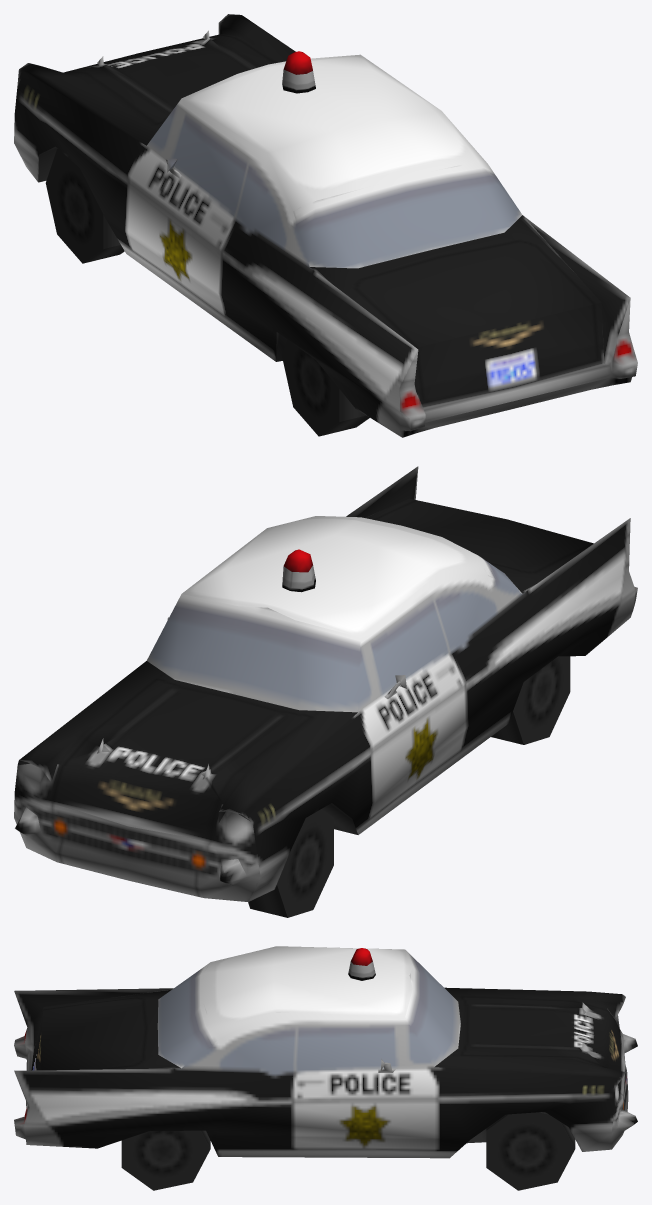
Rendered from fhqDiecast1857BelAirPD.fbx.
3 views of the same model, one above another, from view 1: azimuth 30°, elevation 25°; view 2: azimuth 150°, elevation 25°; view 3: azimuth 270°, elevation 25° (orthographic). The views are drawn at different scales.
Parts seen in each view (by area): view 1: fhqbelairpolice; view 2: fhqbelairpolice; view 3: fhqbelairpolice.
Boxes of the visible parts, x1=… form: fhqbelairpolice: x1=14, y1=14, x2=637, y2=437; fhqbelairpolice: x1=14, y1=466, x2=637, y2=917; fhqbelairpolice: x1=14, y1=946, x2=637, y2=1190.
Size of the model in its own units: 0.1888 by 0.1846 by 0.5234.
